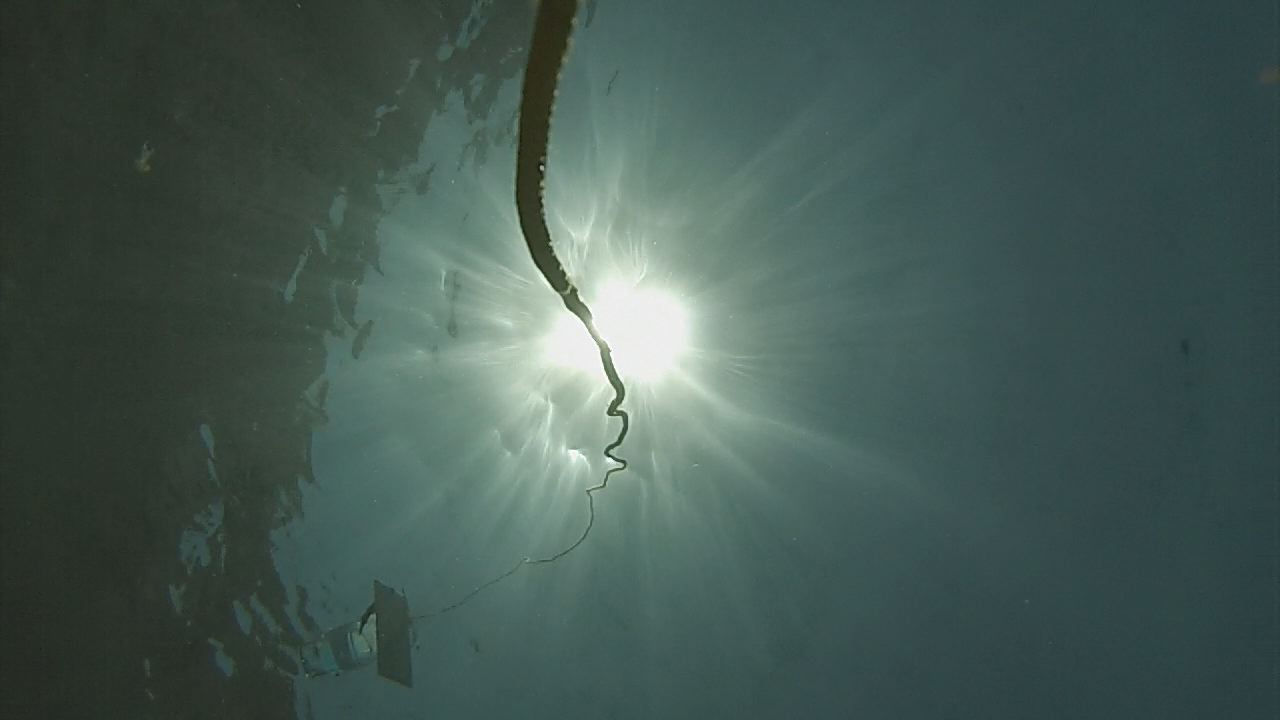pelagia: (131, 134, 161, 186)
